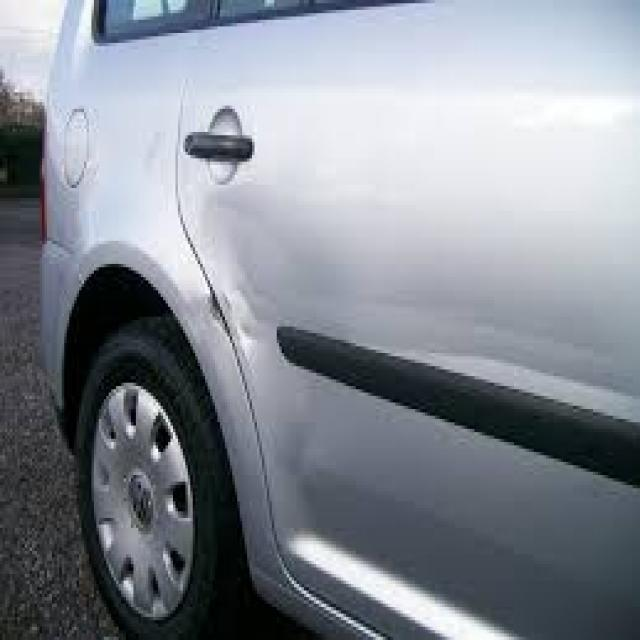minor: (197, 282, 255, 348)
